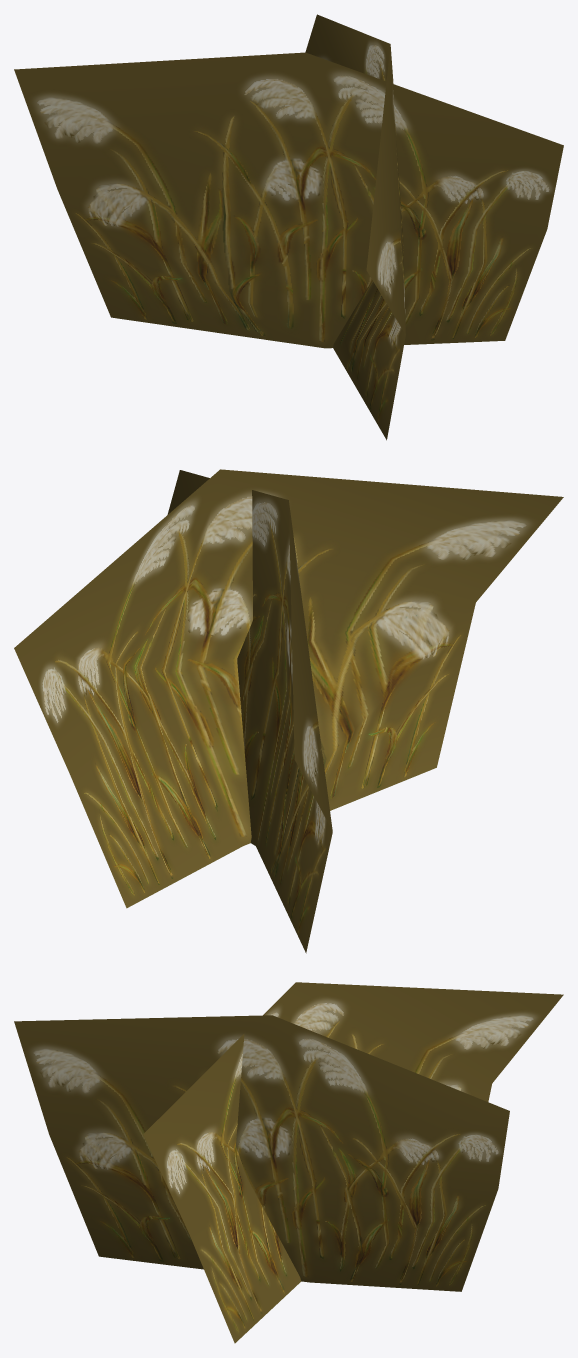
File: reed 01.FBX
3 renders of one model, top to bottom at view 1: azimuth 30°, elevation 25°; view 2: azimuth 150°, elevation 25°; view 3: azimuth 270°, elevation 25°, orthographic. The views are drawn at different scales.
Visible parts, largest first — view 1: reed; view 2: reed; view 3: reed.
Boxes of the visible parts, x1,y1,x2,y2 form: reed: [14, 14, 563, 440]; reed: [14, 469, 563, 953]; reed: [14, 982, 563, 1343].
Size of the model in its own units: 29.21 by 25.56 by 44.63.
